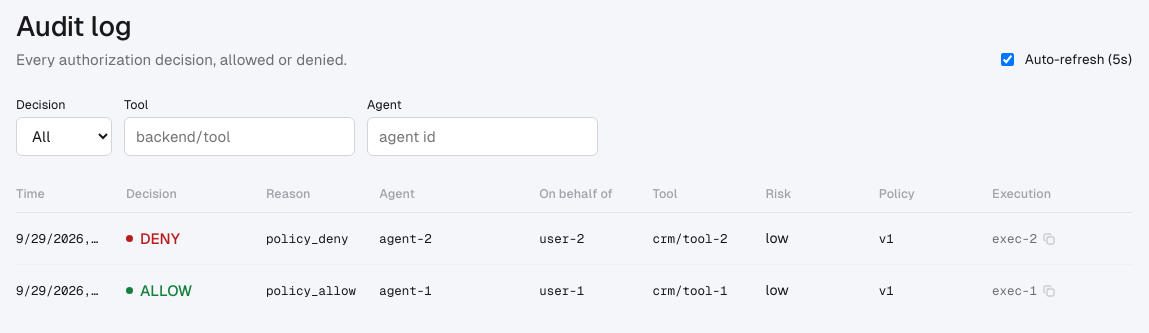
Test case: AuditPage › decision filter hides ALLOW rows
Expected: the text "crm/tool-1" is shown, [652, 264, 766, 316]
Select "DENY" in the dropdown labelled "Decision" at (64, 136), box [16, 117, 112, 156]
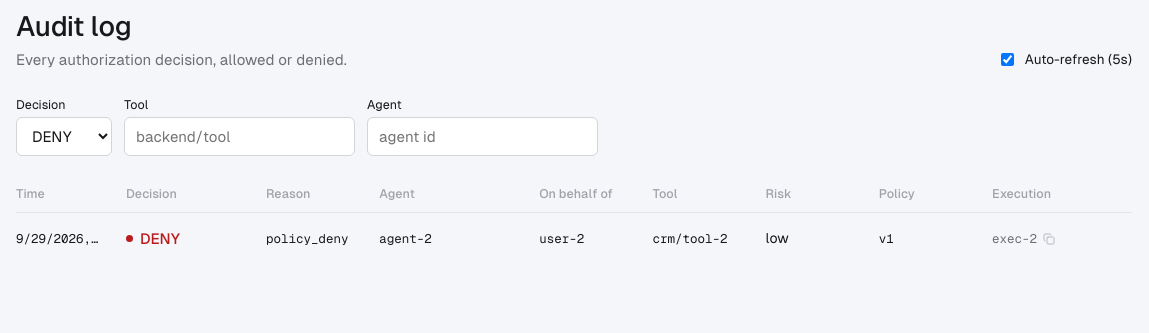
Expected: the text "crm/tool-2" is shown, [652, 212, 766, 264]
Now the text "crm/tool-1" is gone
